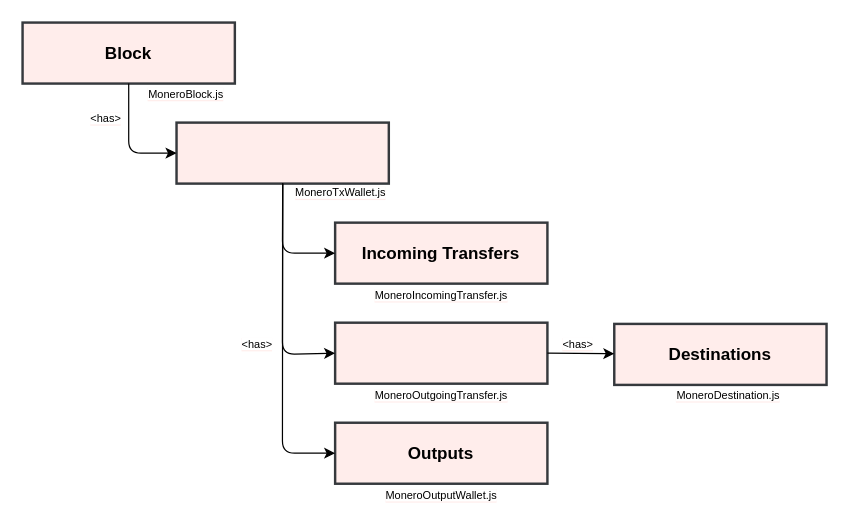
Some shapes in this 848 by 528 pixel diagram are drawn without their labels. The centre of each missing label's shape, as x and y in pixels:
"Outgoing Transfer" belongs at pixel 440 352.
"Transactions" belongs at pixel 282 152.
